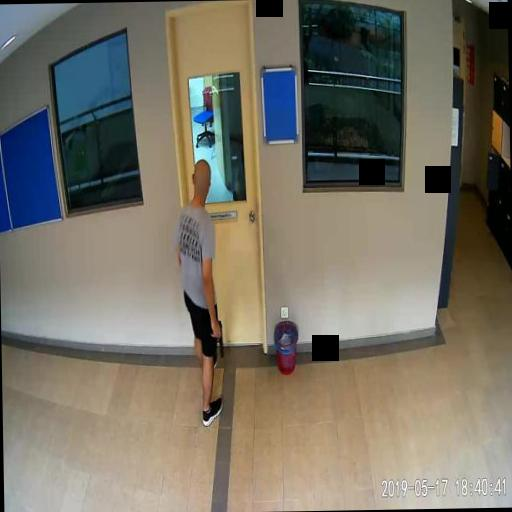Handgun: (210, 318, 223, 354)
